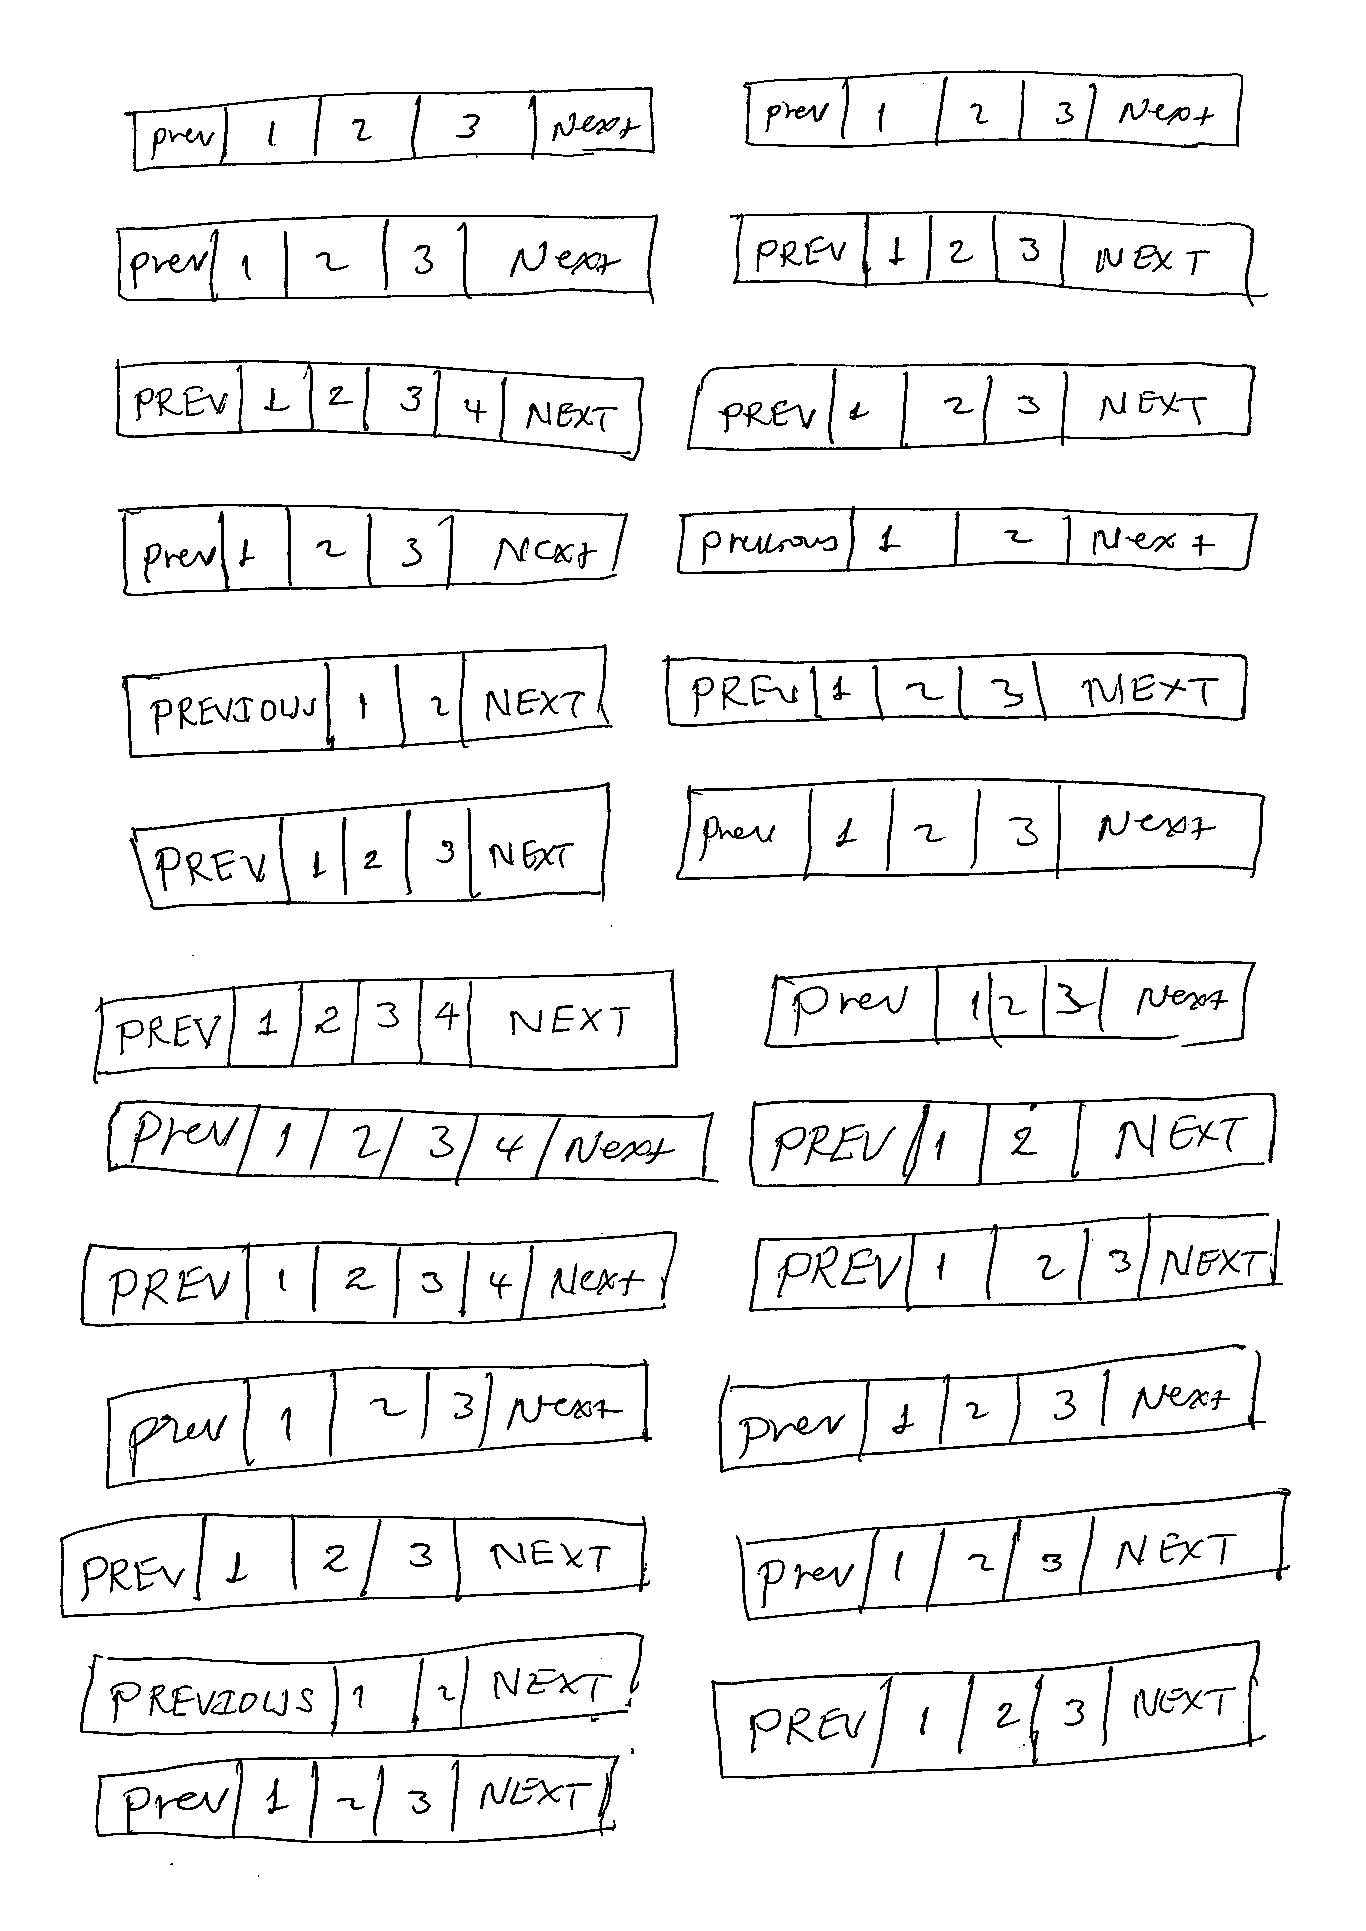Pagination: (707, 1640, 1263, 1780), (735, 1487, 1291, 1622), (716, 1343, 1261, 1476), (103, 1360, 652, 1490), (93, 968, 682, 1087), (59, 1511, 649, 1621), (127, 781, 614, 912), (75, 1629, 648, 1737), (78, 1229, 680, 1331), (674, 776, 1265, 880), (118, 643, 612, 759), (745, 1209, 1286, 1313), (112, 356, 645, 461), (103, 1099, 717, 1186), (684, 361, 1257, 454), (748, 1090, 1277, 1189), (114, 213, 664, 306), (92, 1751, 622, 1847), (729, 208, 1257, 302), (117, 503, 625, 597), (123, 86, 656, 174), (662, 648, 1251, 727), (758, 957, 1258, 1047), (742, 67, 1246, 151), (674, 506, 1260, 578)
